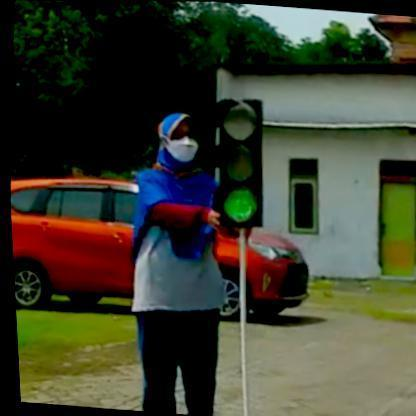green: (204, 98, 268, 228)
